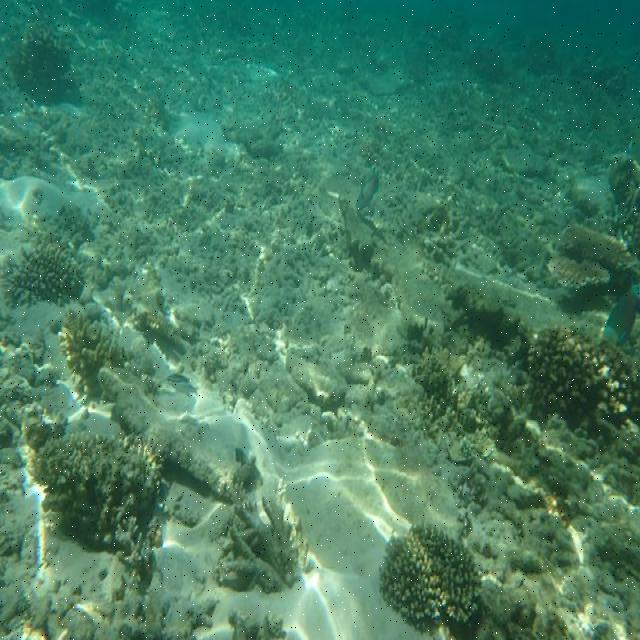fish: (355, 174, 380, 213), (166, 373, 188, 384)
reefs: (27, 424, 164, 581), (367, 509, 494, 635), (519, 317, 638, 435), (5, 226, 90, 317), (4, 19, 78, 107)
